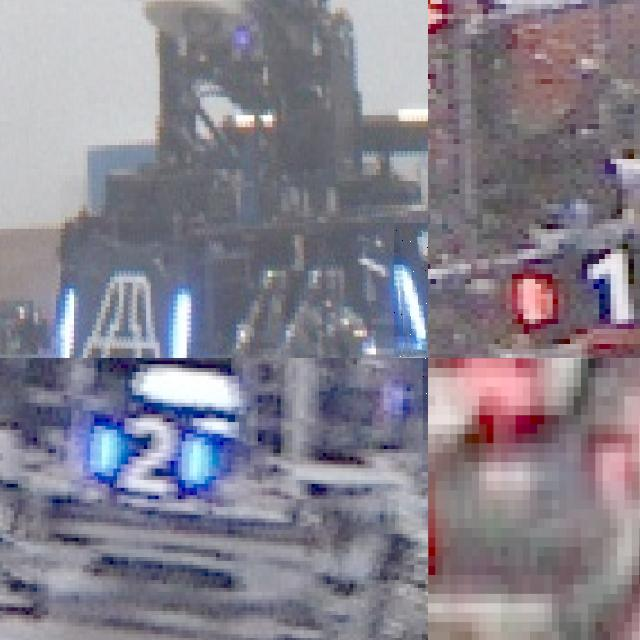B2: (77, 405, 218, 497)
B3: (393, 222, 428, 357)
R1: (511, 239, 640, 324)
R3: (595, 386, 640, 518)
